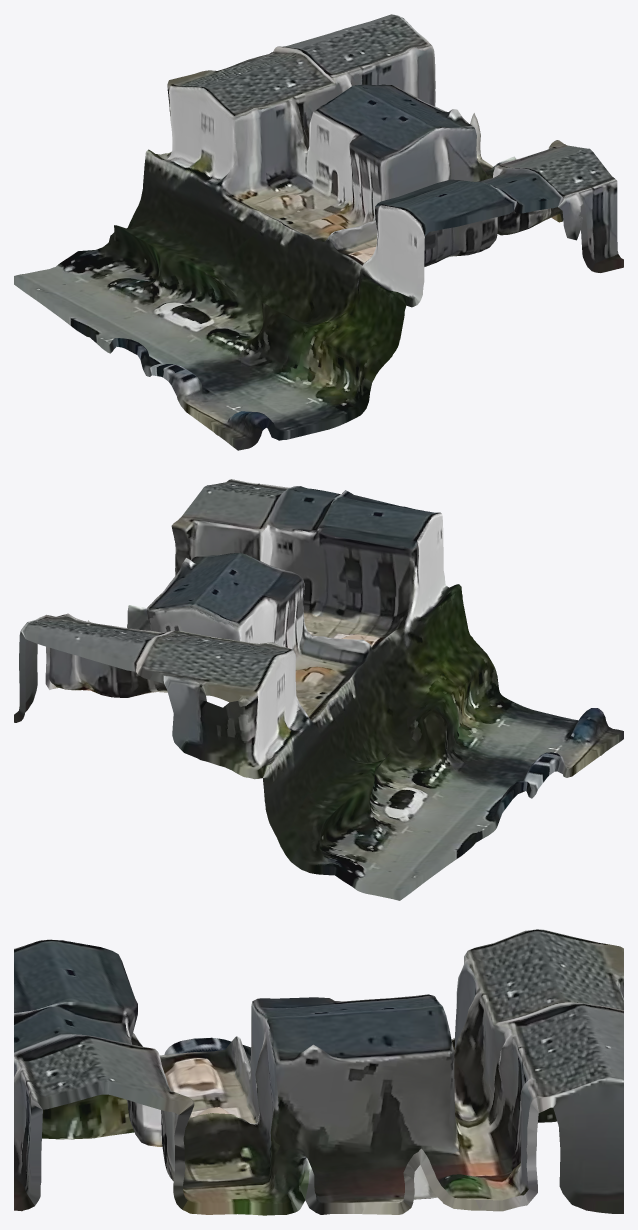
File: z20-167778-405217-h0-yup-uvflip-v3-world.glb
The picture shows the model from 3 angles, top to bottom: view 1: azimuth 30°, elevation 25°; view 2: azimuth 150°, elevation 25°; view 3: azimuth 270°, elevation 25°; orthographic projection. The views are drawn at different scales.
Bounding box in the file's own units: 30.16 × 14.08 × 30.32.
1 material, 1 textured.
